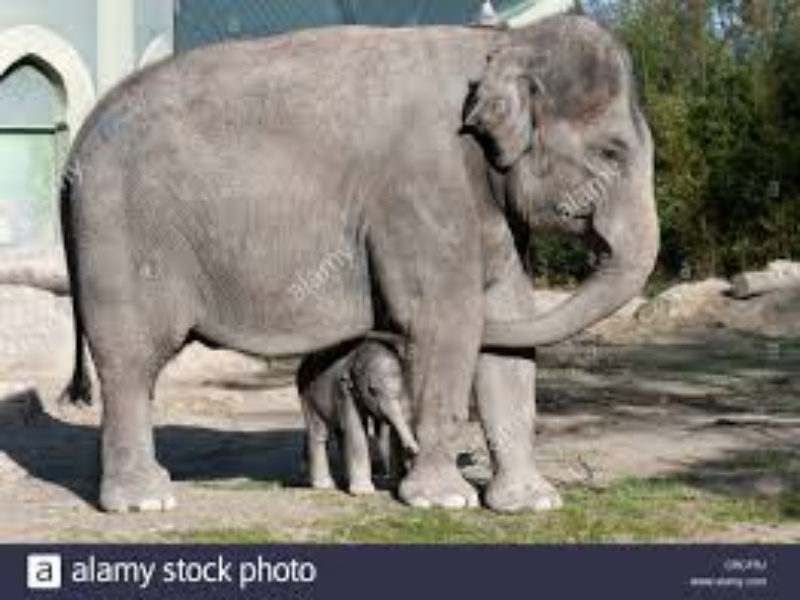elephant: (52, 1, 686, 520), (268, 337, 431, 499)
